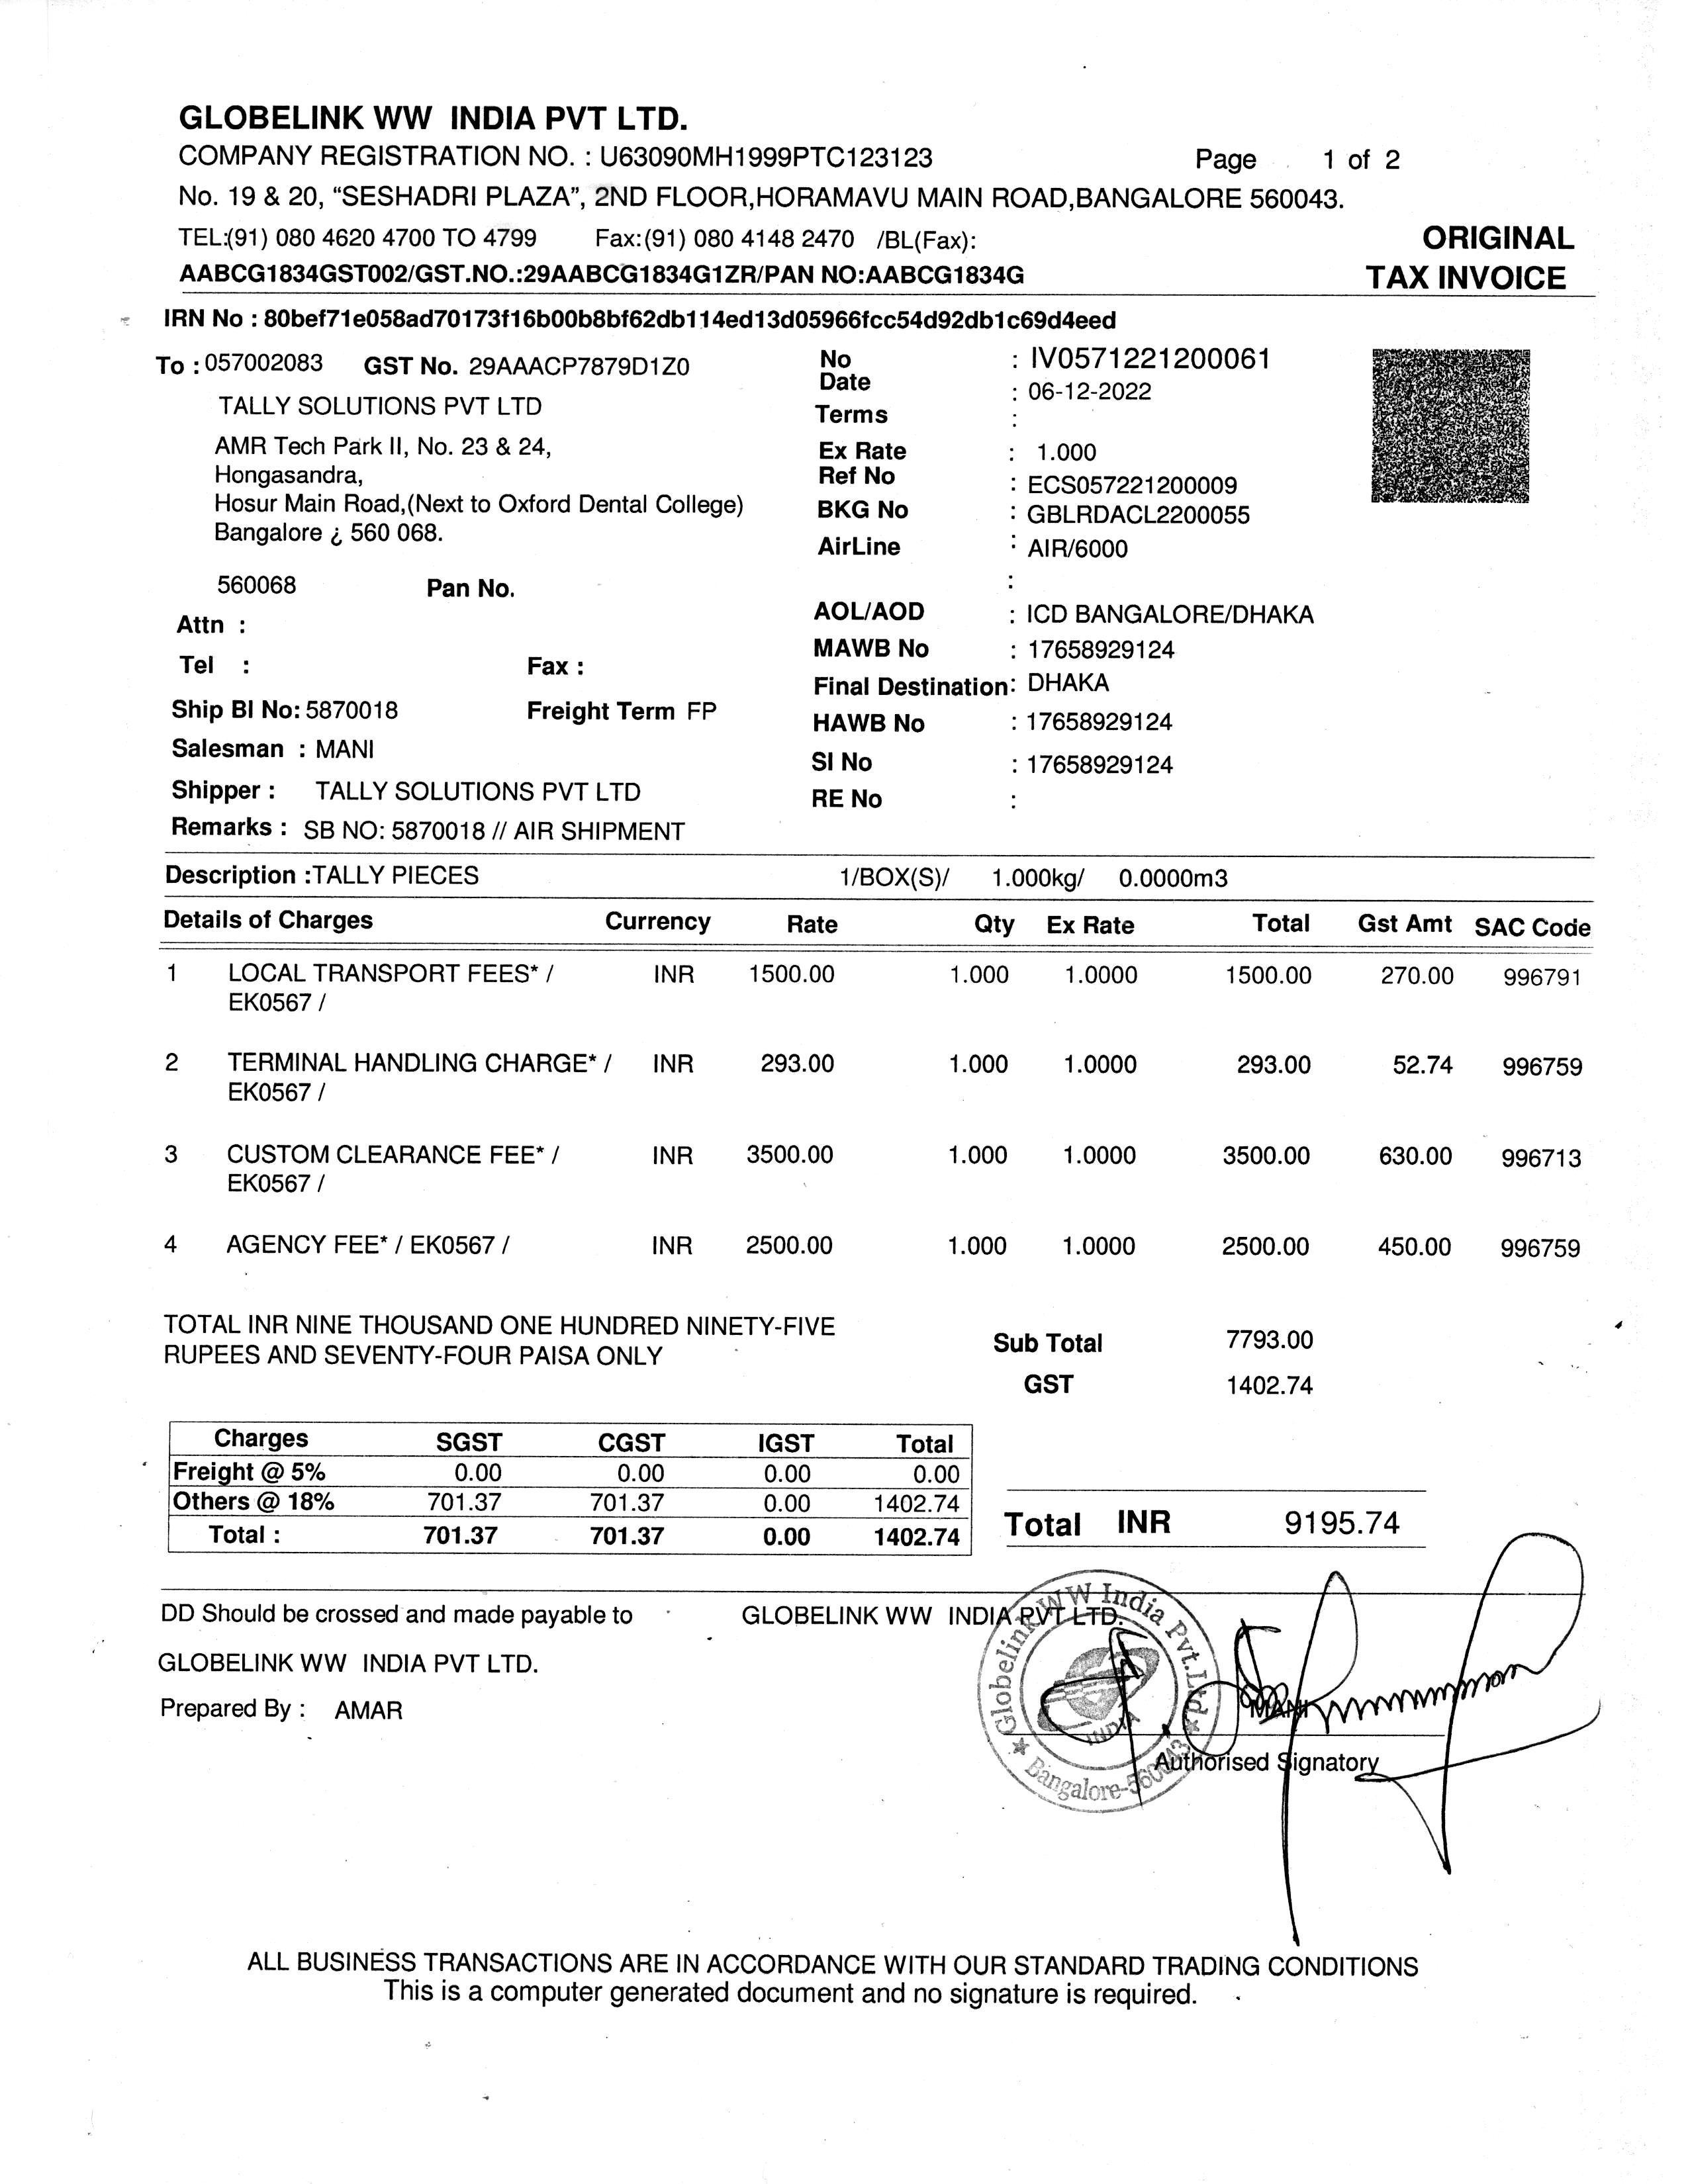InvoiceDate: (1023, 374, 1154, 404)
InvoiceNumber: (1027, 340, 1277, 374)
TotalAmount: (1277, 1494, 1415, 1548)
